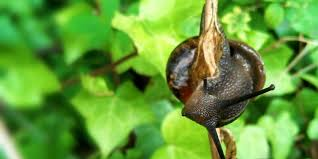slug: (165, 1, 275, 127)
